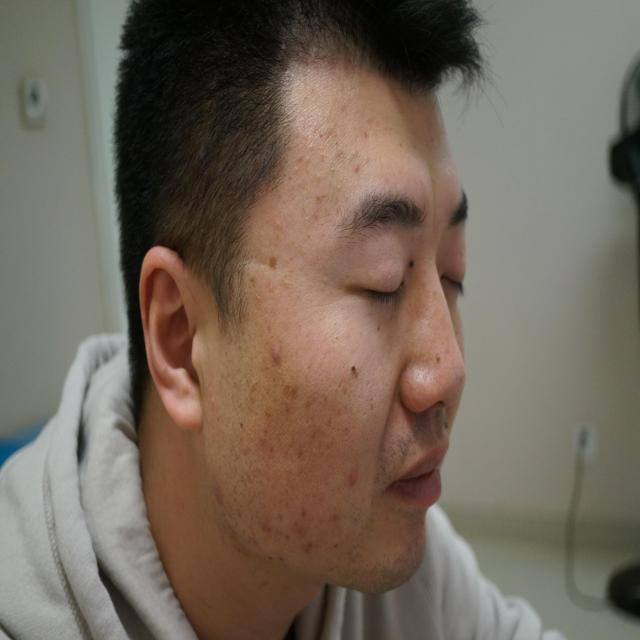pustule: (251, 420, 269, 457), (256, 512, 278, 538), (281, 374, 301, 402), (306, 425, 324, 452), (294, 500, 311, 527), (330, 501, 346, 529), (304, 530, 321, 556), (267, 345, 287, 366), (302, 386, 317, 412), (350, 464, 360, 498), (237, 532, 250, 557), (220, 516, 237, 534), (214, 477, 223, 506)
